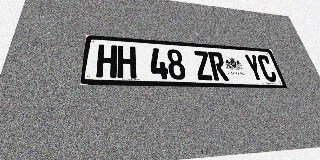4: (149, 48, 169, 79)
8: (166, 49, 186, 80)
C: (256, 55, 278, 82)
H: (96, 44, 117, 78), (117, 45, 136, 78)
R: (208, 51, 229, 81)
Y: (243, 54, 265, 82)
Z: (193, 50, 214, 80)
